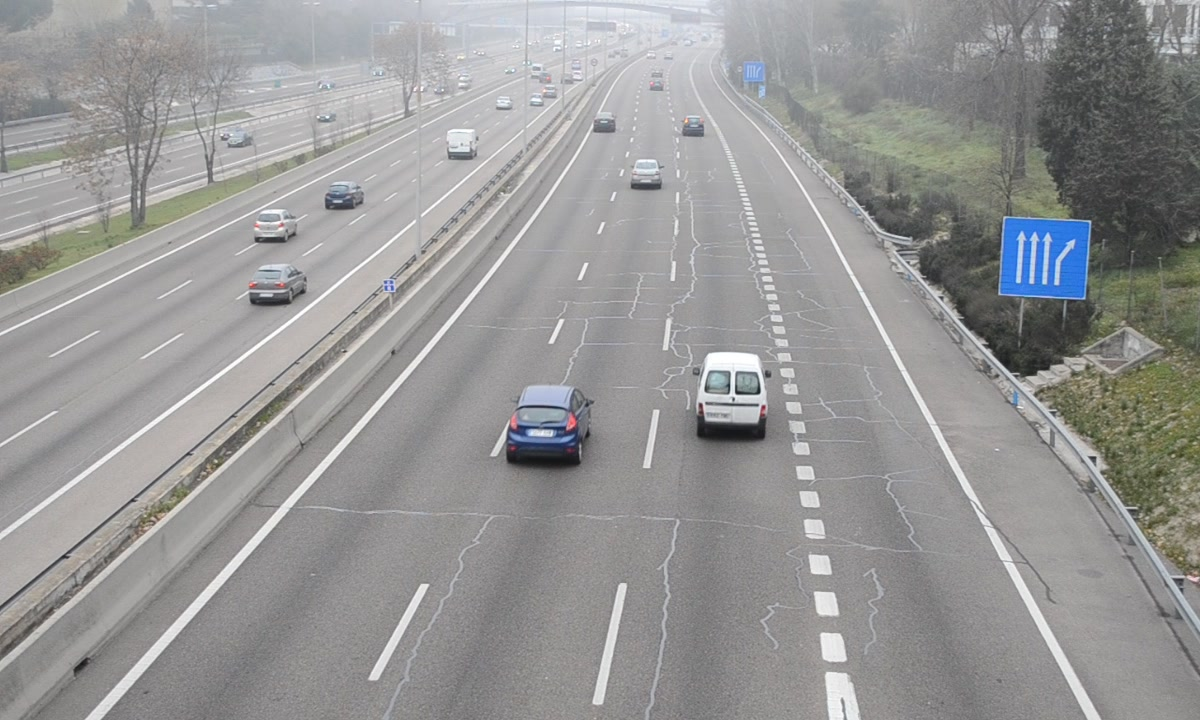car: (507, 385, 588, 461), (630, 158, 662, 189), (592, 110, 617, 134), (681, 115, 703, 137)
van: (698, 353, 765, 439)
